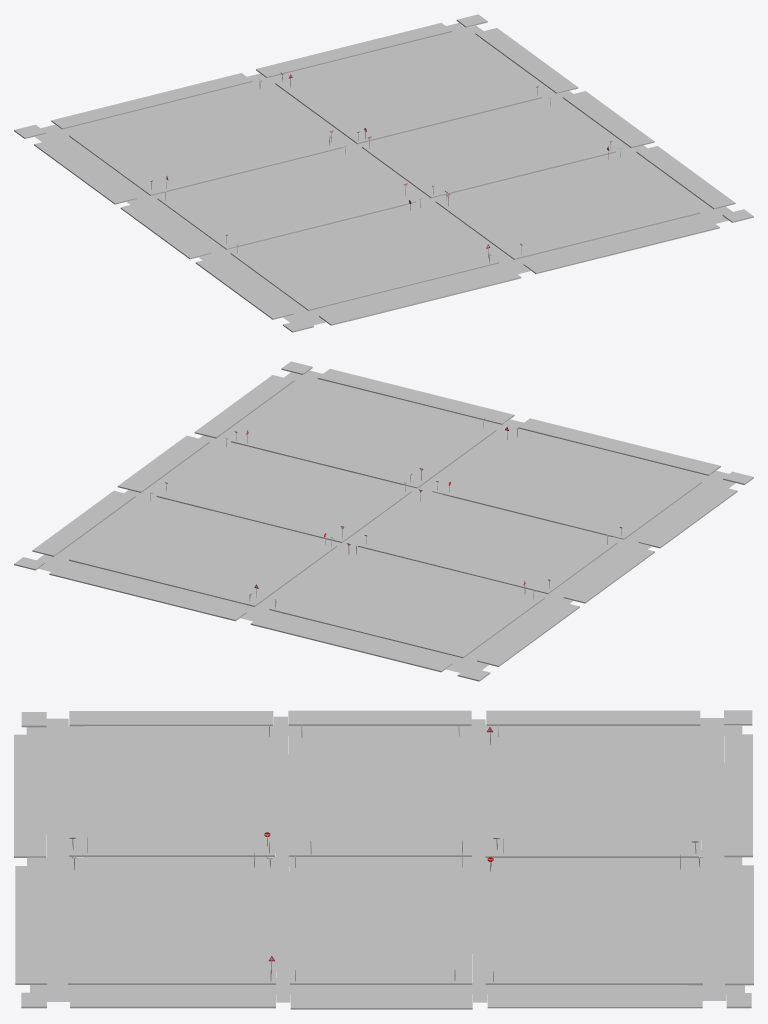
The model's file is modelo completo.fbx.
3 views of the same model, one above another, from view 1: azimuth 30°, elevation 25°; view 2: azimuth 150°, elevation 25°; view 3: azimuth 270°, elevation 25° (orthographic). The views are drawn at different scales.
Parts seen in each view (by area): view 1: Cube, Plane; view 2: Cube, Plane; view 3: Cube, Plane.
Part boxes in pixels (x1=…): Cube: x1=14, y1=14, x2=753, y2=332; Plane: x1=34, y1=23, x2=732, y2=325; Cube: x1=14, y1=361, x2=753, y2=681; Plane: x1=37, y1=370, x2=735, y2=672; Cube: x1=14, y1=710, x2=753, y2=1009; Plane: x1=26, y1=716, x2=744, y2=1002.
Size of the model in its own units: 70443 by 2503 by 73167.
